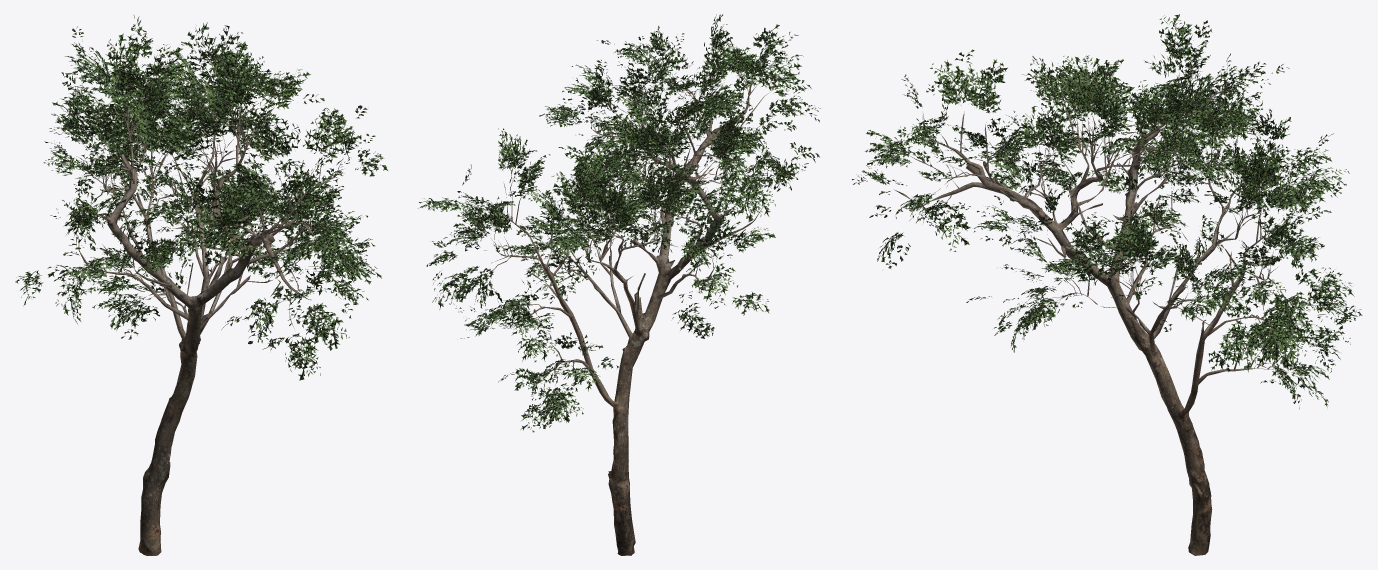
The model's file is italian-canopy-tree.glb.
The picture shows the model from 3 angles, left to right: view 1: azimuth 30°, elevation 25°; view 2: azimuth 150°, elevation 25°; view 3: azimuth 270°, elevation 25°; orthographic projection. The views are drawn at different scales.
Visible parts, largest first — view 1: tree_small_02_LOD0; view 2: tree_small_02_LOD0; view 3: tree_small_02_LOD0.
Boxes of the visible parts, bbox=[...] form: tree_small_02_LOD0: bbox=[15, 15, 387, 555]; tree_small_02_LOD0: bbox=[418, 14, 820, 555]; tree_small_02_LOD0: bbox=[852, 14, 1362, 555].
Size of the model in its own units: 2.91 by 4.55 by 4.23.
Materials: 3 (3 with a texture image).
